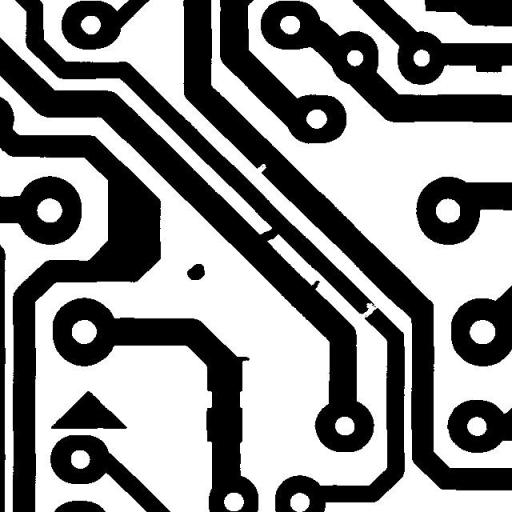copper: (179, 256, 212, 287)
mousebite: (248, 156, 274, 180)
open: (350, 295, 385, 326)
short: (250, 220, 286, 253)
spur: (302, 272, 327, 298), (228, 349, 257, 368)
